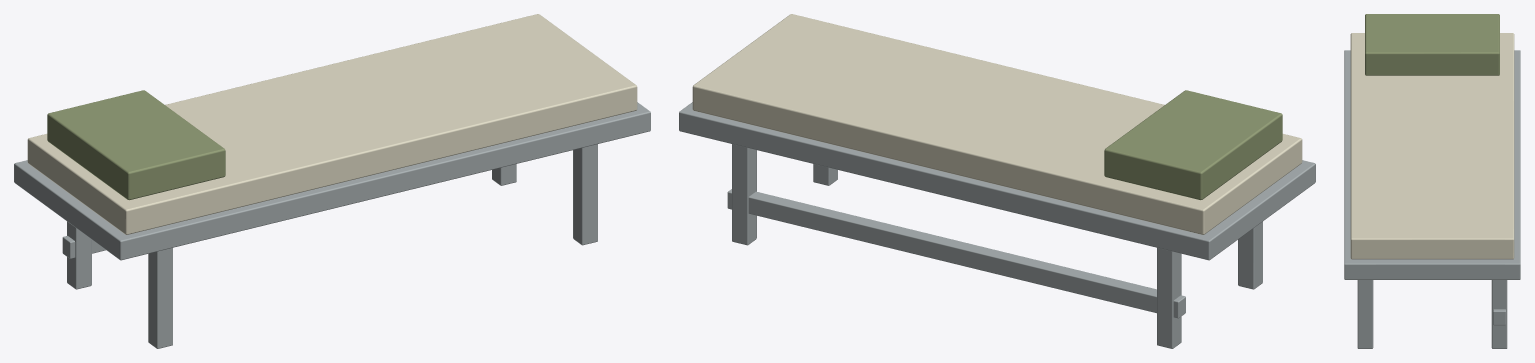
The model's file is field-medicine-and-recovery-recovery-cot-0dd5a5c6__3050.glb.
3 renders of one model, left to right at view 1: azimuth 30°, elevation 25°; view 2: azimuth 150°, elevation 25°; view 3: azimuth 270°, elevation 25°, orthographic. The views are drawn at different scales.
Visible parts, largest first — view 1: recovery-cot; view 2: recovery-cot; view 3: recovery-cot.
Boxes of the visible parts, <box> form: recovery-cot: <box>14,14,650,348</box>; recovery-cot: <box>679,14,1315,348</box>; recovery-cot: <box>1344,14,1520,348</box>.
Bounding box in the file's own units: 1.95 × 0.6299 × 0.6799.
